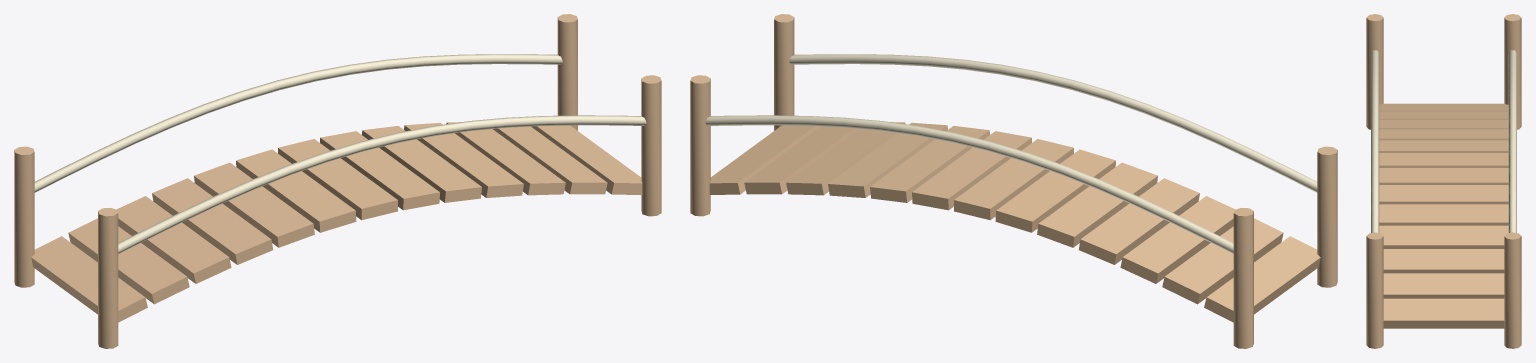
File: bridge.glb
The picture shows the model from 3 angles, left to right: view 1: azimuth 30°, elevation 25°; view 2: azimuth 150°, elevation 25°; view 3: azimuth 270°, elevation 25°; orthographic projection. The views are drawn at different scales.
Parts seen in each view (by area): view 1: bridge_planks, bridge_ropes; view 2: bridge_planks, bridge_ropes; view 3: bridge_planks, bridge_ropes.
Boxes of the visible parts, x1,y1,x2,y2 form: bridge_planks: [14, 14, 661, 348]; bridge_ropes: [34, 54, 646, 253]; bridge_planks: [690, 14, 1337, 348]; bridge_ropes: [705, 54, 1317, 253]; bridge_planks: [1366, 14, 1521, 348]; bridge_ropes: [1371, 50, 1516, 232].
Bounding box in the file's own units: 1.55 × 0.3697 × 0.45.
